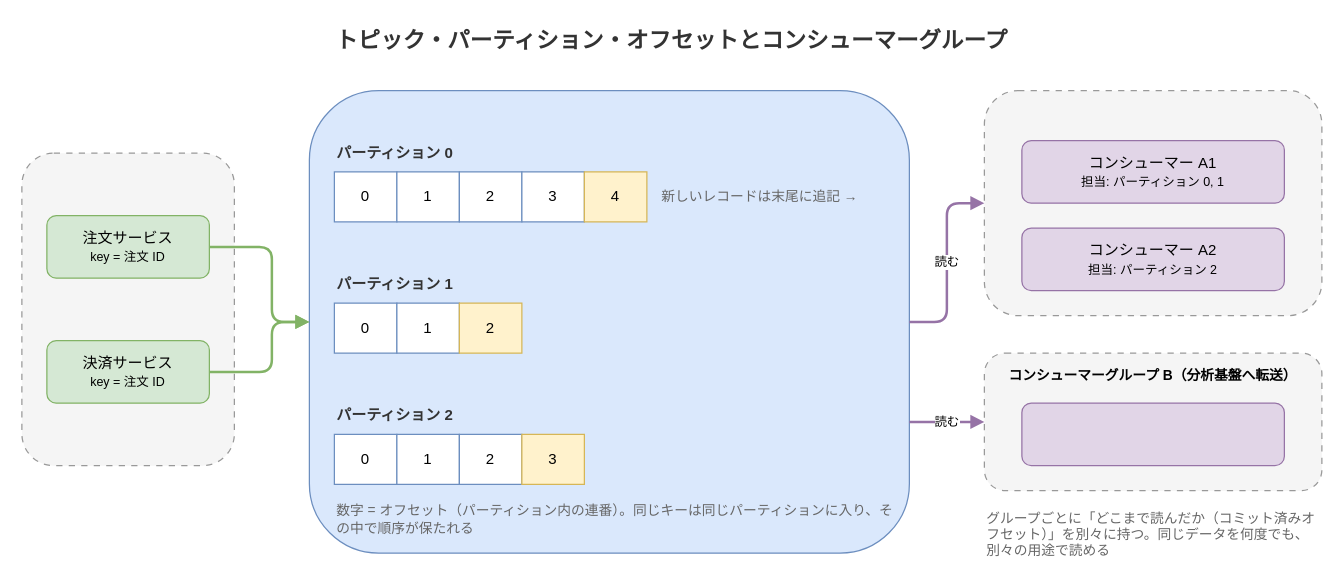
The diagram is 1344 pixels wide and 586 high, and some of its shapes have lost their labels. The shapes that lost their labels are listed below. From the top down, each one's box as (x1, y1, x2, y2) in pixels, then its label:
(983, 89, 1322, 316): コンシューマーグループ A（検索インデックス更新）
(21, 152, 234, 466): プロデューサー
(308, 89, 909, 553): トピック orders（ブローカーのクラスター上に保存・複製）
(1021, 402, 1284, 466): コンシューマー B1 担当: パーティション 0, 1, 2
